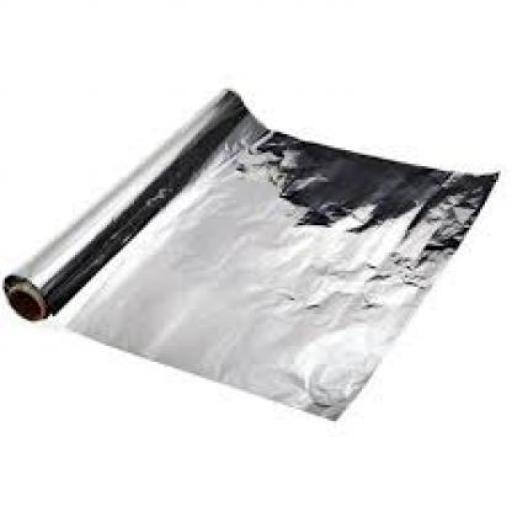metal: (0, 84, 501, 421)
